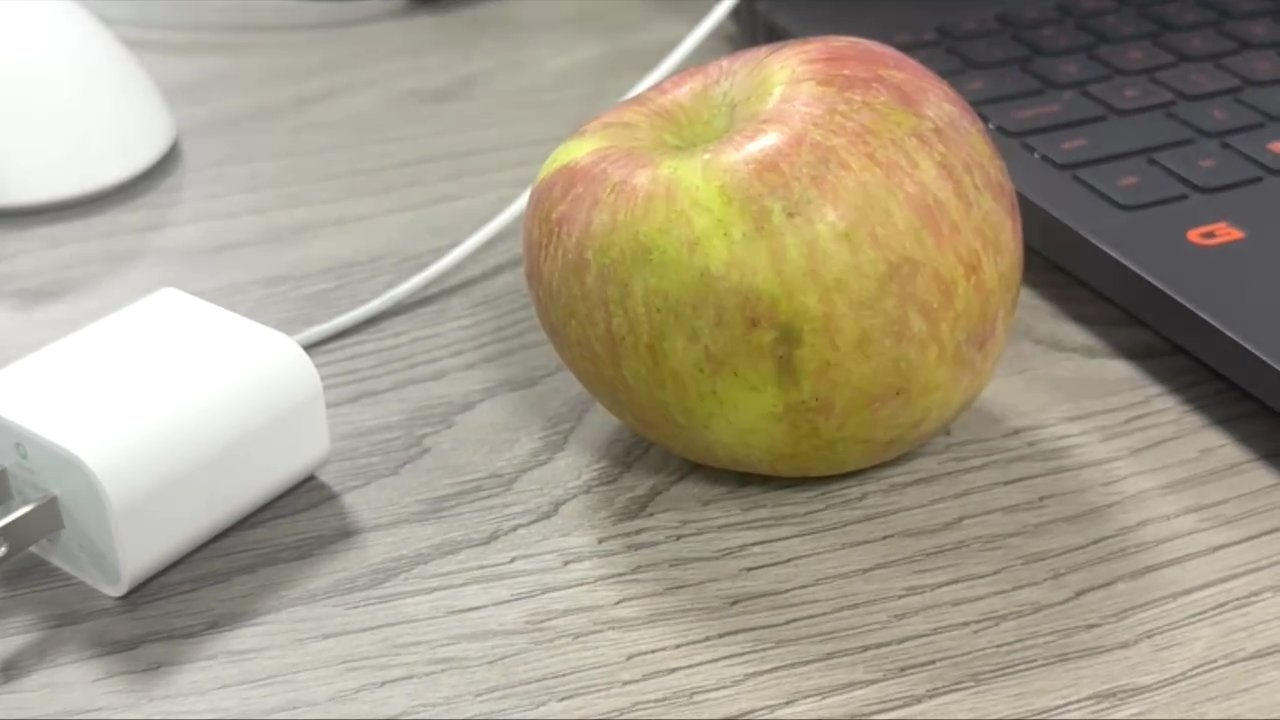apple_rotten: (499, 34, 1031, 484)
